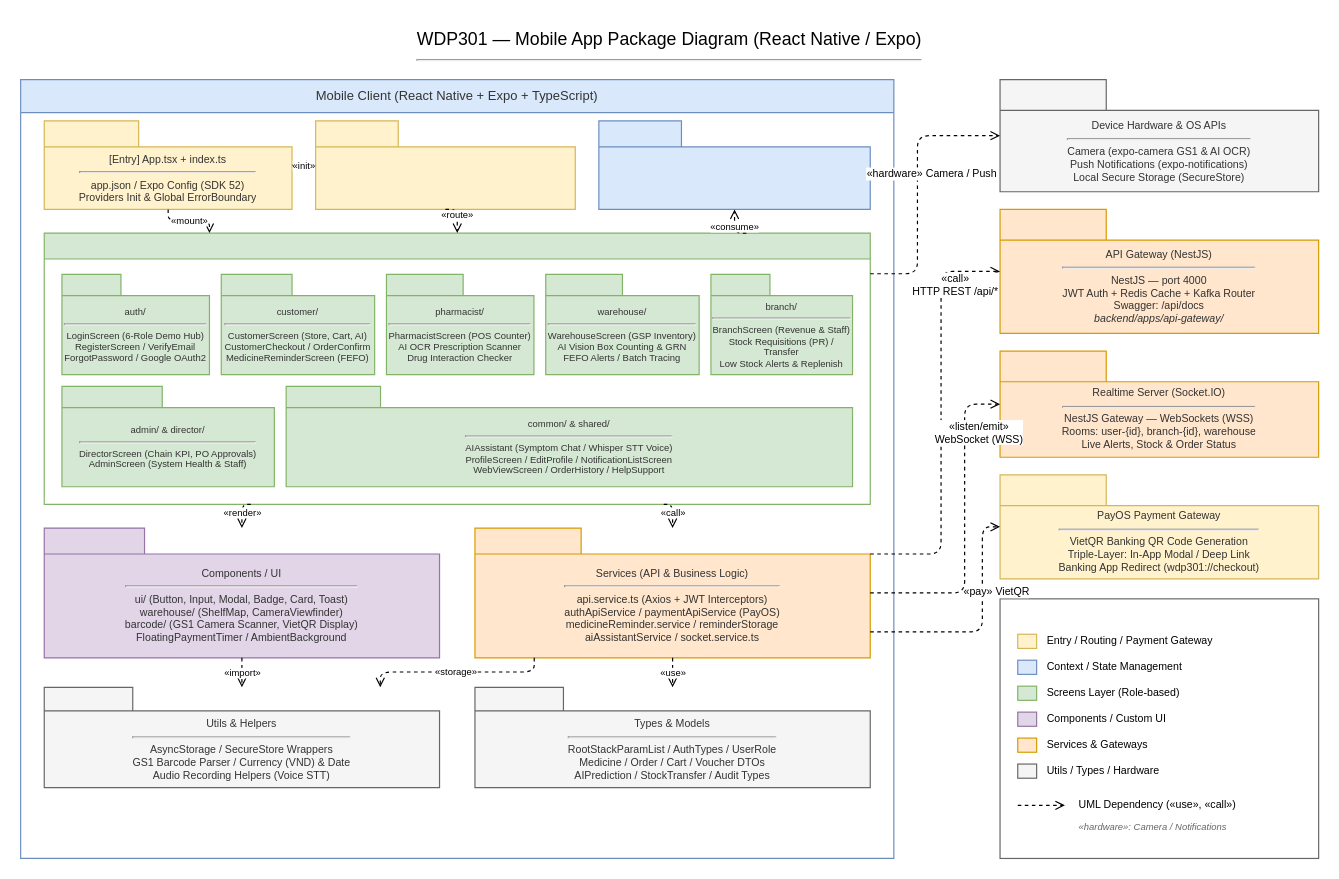
The diagram is 1339 pixels wide and 879 high, and some of its shapes have lost their labels. Here are the shapes that lost their labels. From the top down, the box of each, then its label:
(314, 120, 575, 209): Navigation AppNavigator / RootNavigator Role Stacks & Deep Linking (wdp301://)
(598, 120, 870, 209): Context / State AuthContext (RBAC) / NotificationCtx PaymentTimerCtx / ThemeCtx
(43, 232, 870, 504): Screens Layer (by Role & Feature)
(999, 598, 1319, 858): Legend
